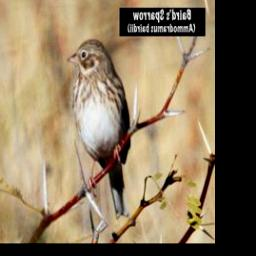Sparrow: (66, 35, 135, 221)
